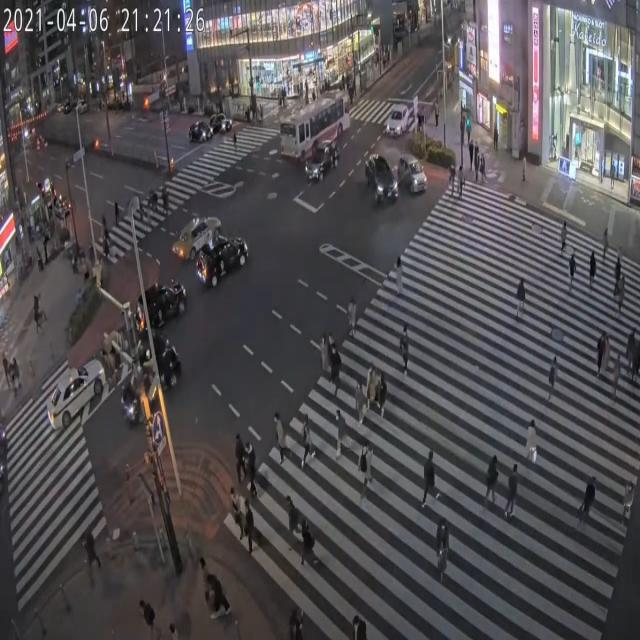humans: (416, 442, 444, 508), (540, 353, 566, 410), (226, 478, 244, 554), (296, 514, 316, 578), (296, 410, 318, 468), (78, 524, 103, 575), (436, 518, 456, 578), (332, 402, 350, 465), (201, 571, 223, 622), (511, 271, 530, 329), (267, 413, 288, 465), (280, 487, 298, 547), (356, 442, 374, 502), (483, 452, 499, 518), (578, 472, 595, 531), (619, 478, 639, 528), (505, 456, 519, 526), (196, 555, 213, 612), (396, 323, 412, 381), (137, 590, 158, 631), (287, 597, 306, 640), (331, 350, 347, 401), (524, 416, 537, 478), (232, 428, 245, 489), (314, 332, 329, 383), (393, 249, 407, 302), (346, 291, 360, 342), (354, 377, 368, 428), (350, 598, 366, 640), (244, 493, 255, 554), (245, 440, 258, 491), (367, 362, 379, 415), (379, 366, 390, 421), (597, 224, 611, 267), (324, 329, 335, 382), (445, 159, 456, 201), (618, 271, 627, 321), (565, 252, 577, 289), (586, 248, 596, 286), (466, 139, 476, 175), (615, 255, 623, 297), (520, 152, 529, 188), (472, 141, 482, 172), (614, 354, 620, 404), (597, 330, 603, 378), (458, 161, 464, 205), (474, 155, 482, 188), (479, 155, 488, 184), (605, 336, 611, 379), (628, 331, 634, 373), (635, 341, 640, 381), (560, 219, 566, 250)
